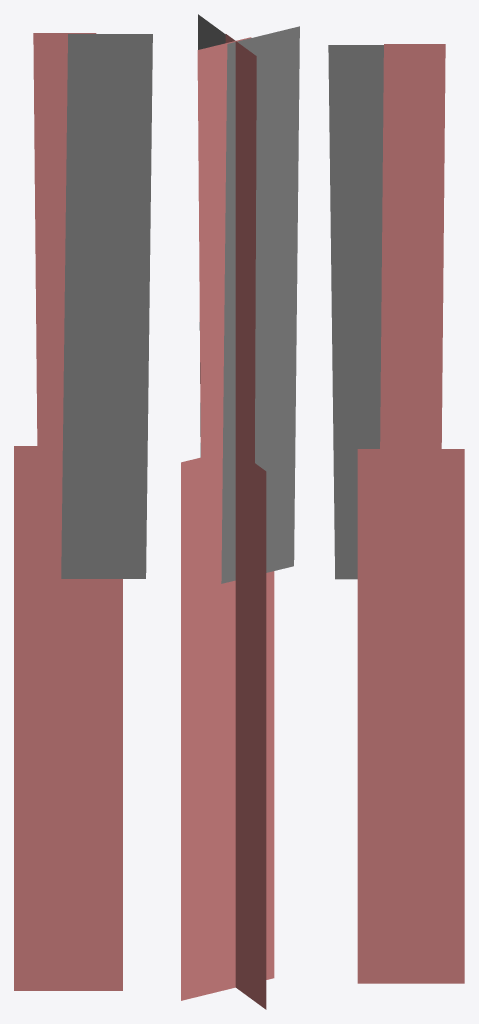
The model's file is Primitive_INDeco_Long005.gltf.
3 views of the same model, side by side, from view 1: azimuth 90°, elevation 25°; view 2: azimuth 210°, elevation 25°; view 3: azimuth 270°, elevation 25° (orthographic).
Visible parts, largest first — view 1: Primitive_INDeco_Long005; view 2: Primitive_INDeco_Long005; view 3: Primitive_INDeco_Long005.
Boxes of the visible parts, bbox=[...] form: Primitive_INDeco_Long005: bbox=[14, 33, 152, 990]; Primitive_INDeco_Long005: bbox=[181, 14, 299, 1009]; Primitive_INDeco_Long005: bbox=[328, 44, 464, 983].
Size of the model in its own units: 1.59 by 12.12 by 1.59.
